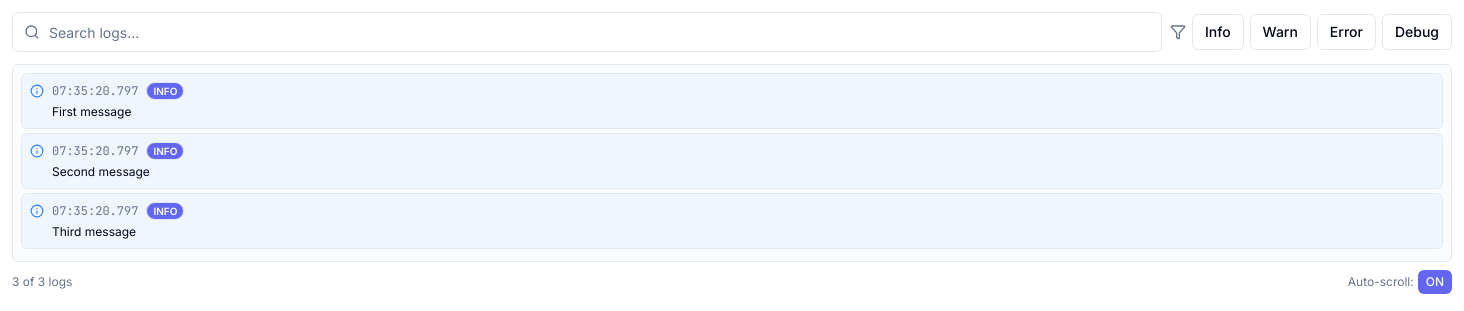
LogViewer › should filter logs by search query
The image size is (1464, 311).
Type "Second" into the field with placeholder "Search logs..." at (587, 32), box [12,12,1162,52]
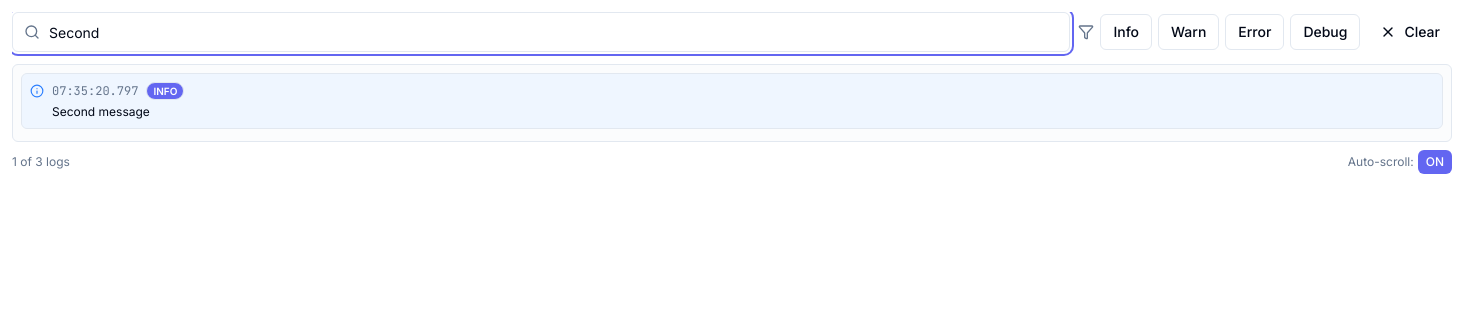
Check: the text "First message" is gone
Check: the text "Third message" is gone
Check: the text "1 of 3 logs" is shown, box [12,154,70,170]
